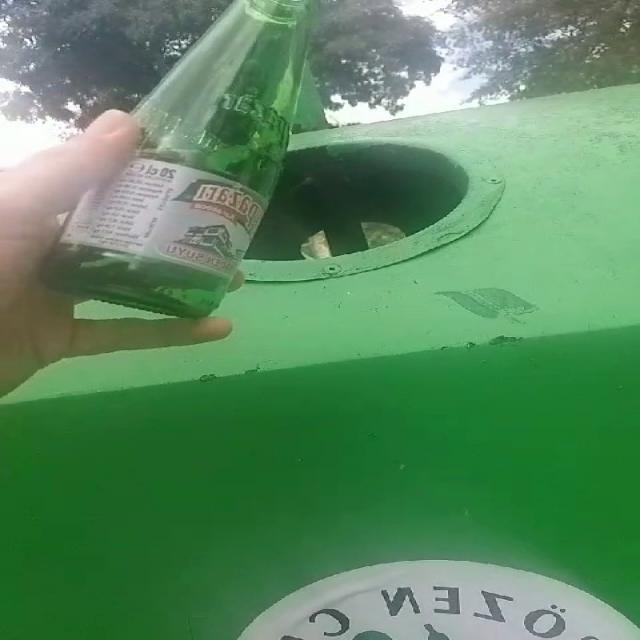Glass: (49, 0, 310, 315)
